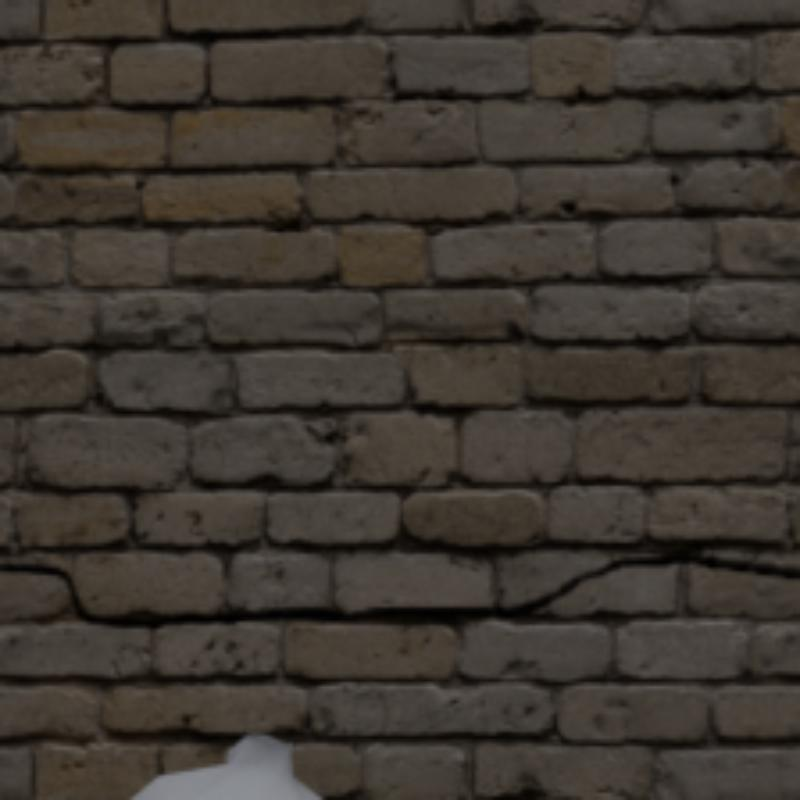crack: (0, 554, 796, 629)
